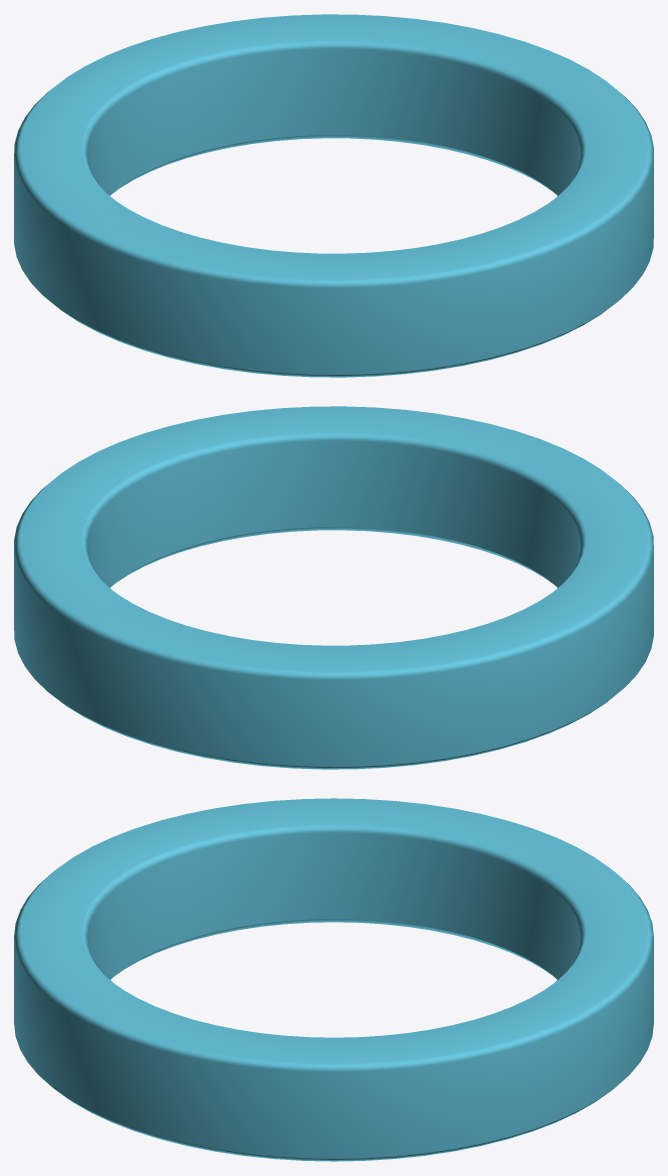
3 renders of one model, top to bottom at view 1: azimuth 30°, elevation 25°; view 2: azimuth 150°, elevation 25°; view 3: azimuth 270°, elevation 25°, orthographic.
Visible parts, largest first — view 1: seal_body; view 2: seal_body; view 3: seal_body.
Boxes of the visible parts, left/top/right/bottom form: seal_body: left=14, top=14, right=653, bottom=377; seal_body: left=14, top=406, right=653, bottom=769; seal_body: left=14, top=798, right=653, bottom=1161.
Size of the model in its own units: 0.065 by 0.011 by 0.065.
